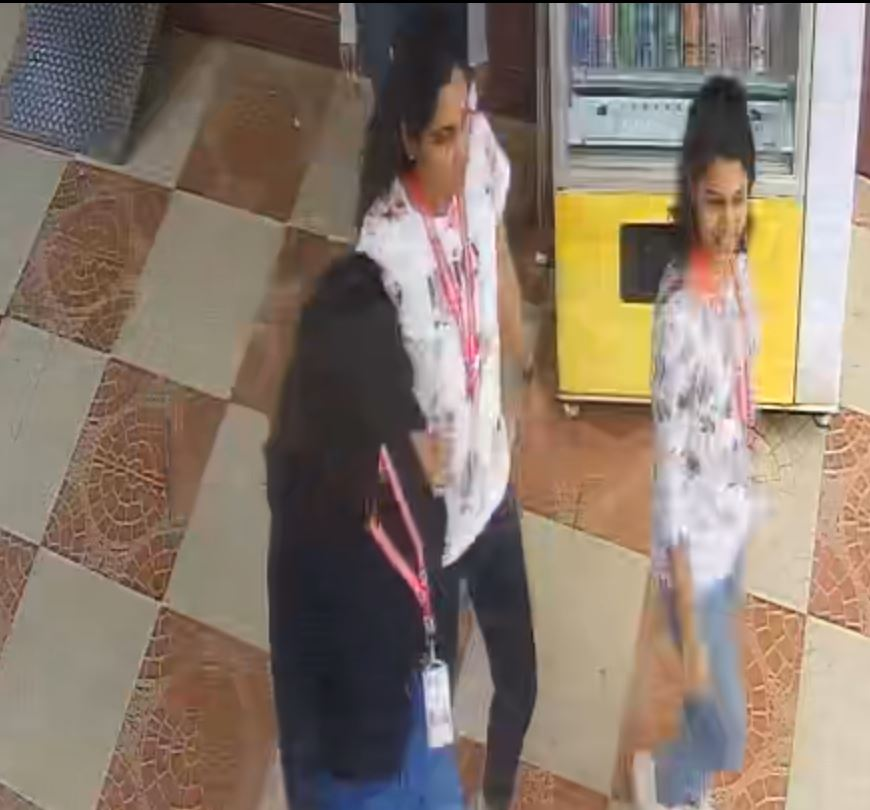intruder: (339, 25, 564, 810), (604, 61, 796, 810), (254, 251, 492, 810)
